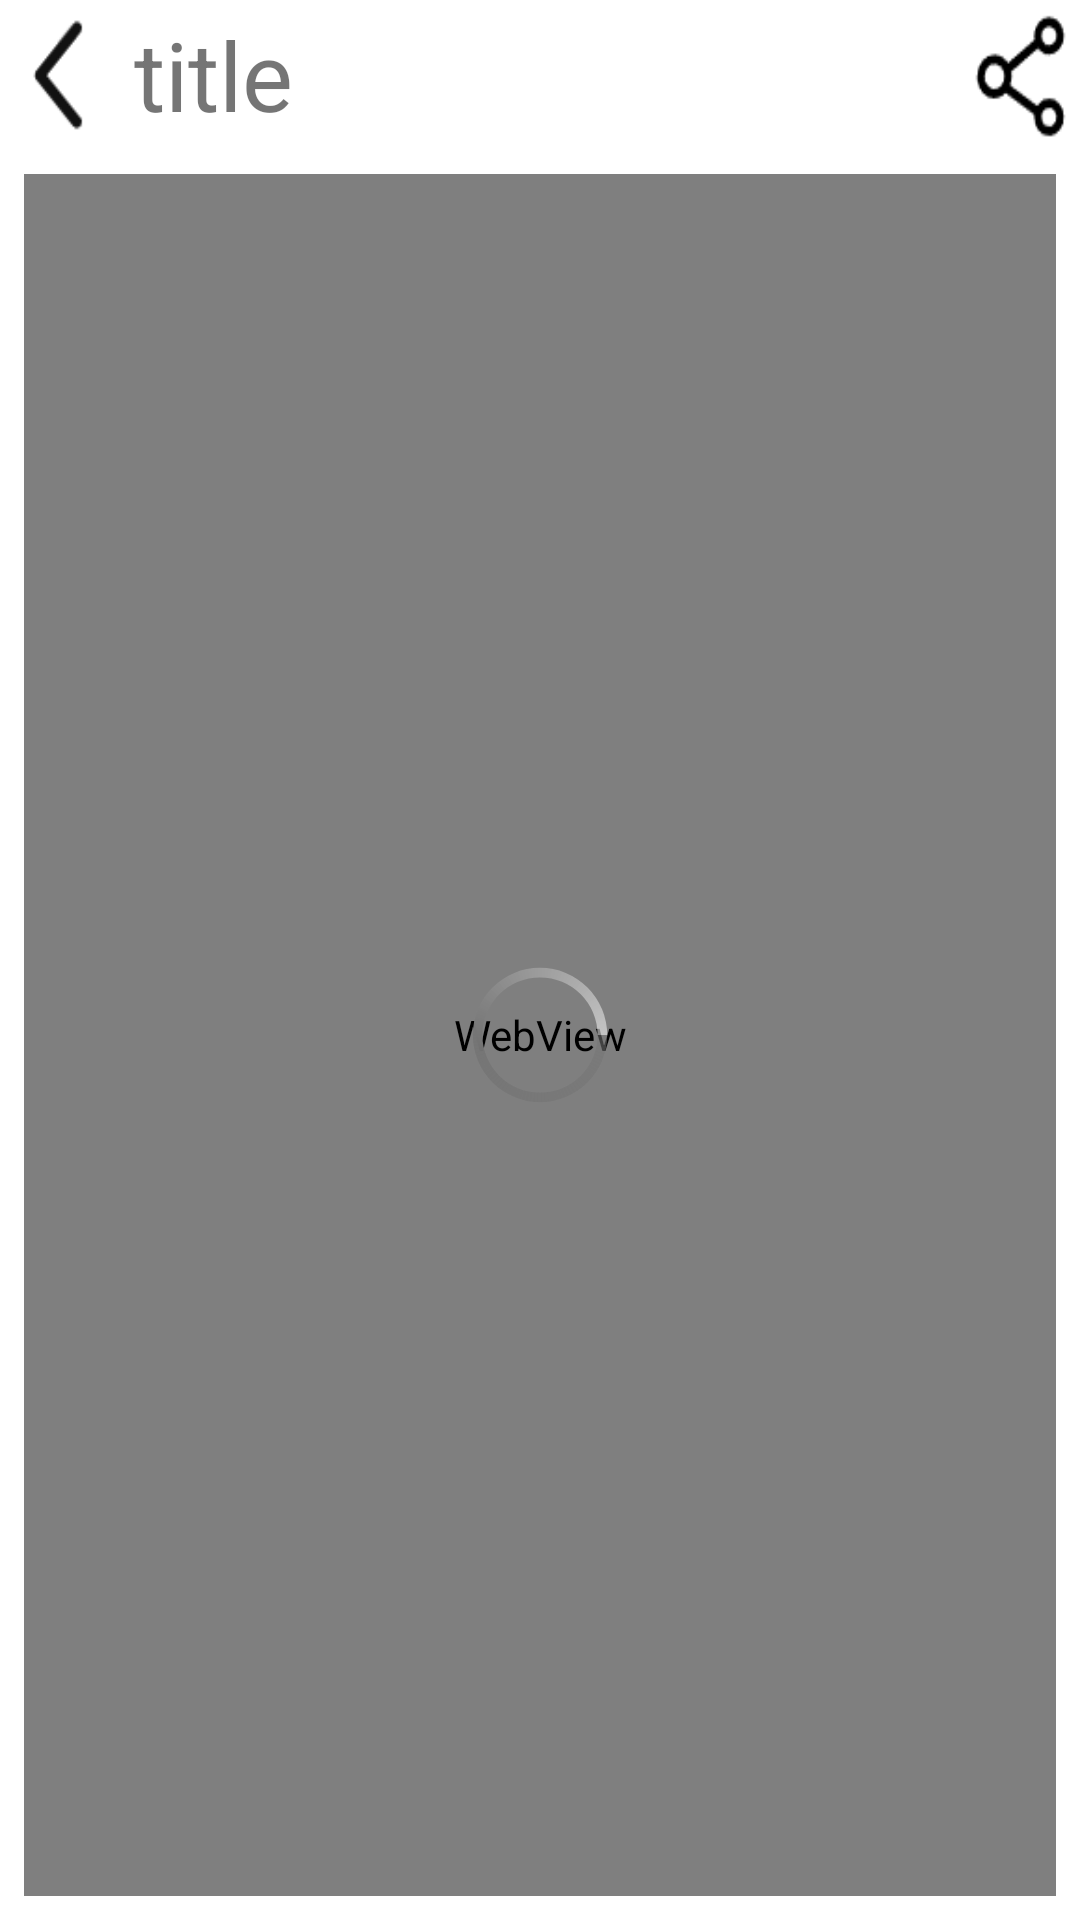

Locate icon controls on the screen. Image size 1080w x 1920h, boxes as region(x1, y1, x2, y2).
back: region(33, 20, 83, 130)
share: region(976, 16, 1065, 137)
